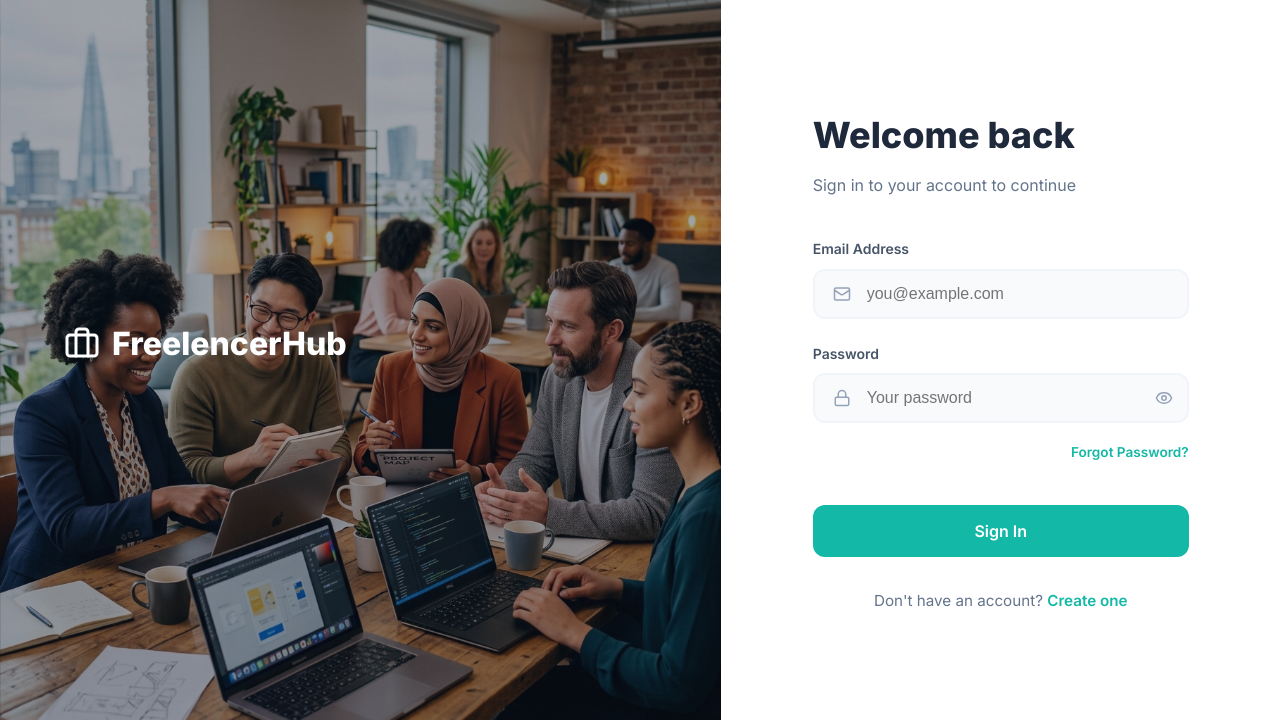
Test case: Login Component › shows error when fields are empty on submit
This screenshot has width=1280, height=720.
Click the button "Sign In" at (1001, 531), box [813, 505, 1189, 557]
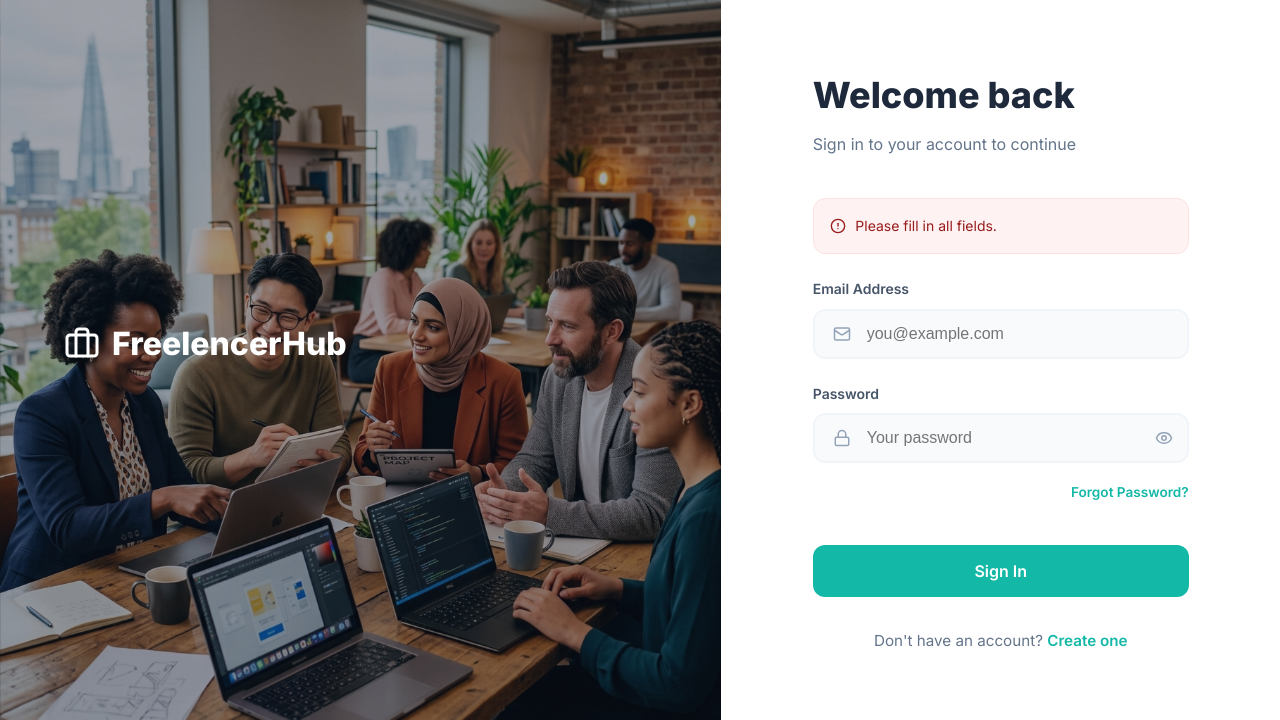
Expected: the text "Please fill in all fields." is shown, [855, 215, 997, 237]
